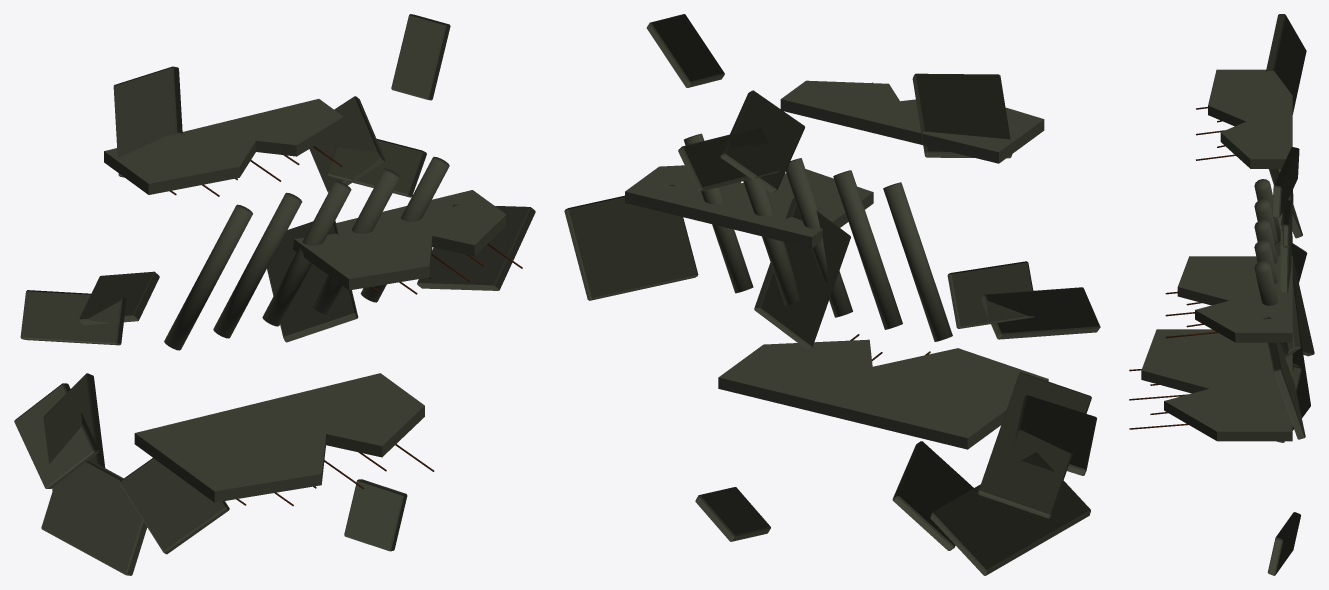
Rendered from building_ruins.obj.
3 renders of one model, left to right at view 1: azimuth 30°, elevation 25°; view 2: azimuth 150°, elevation 25°; view 3: azimuth 270°, elevation 25°, orthographic. The views are drawn at different scales.
Visible parts, largest first — view 1: fractured_wall_0.001, fractured_wall_2.001, fractured_wall_1.001, collapsed_slab_4.001, collapsed_slab_2.001, collapsed_slab_10.001, collapsed_slab_9.001, collapsed_slab_0.001, collapsed_slab_7.001, collapsed_slab_5.001, collapsed_slab_12.001, collapsed_slab_11.001 (+9 smaller); view 2: fractured_wall_0.001, collapsed_slab_0.001, fractured_wall_2.001, fractured_wall_1.001, collapsed_slab_4.001, collapsed_slab_1.001, collapsed_slab_10.001, collapsed_slab_7.001, collapsed_slab_3.001, collapsed_slab_9.001, collapsed_slab_2.001, collapsed_slab_6.001 (+9 smaller); view 3: fractured_wall_0.001, fractured_wall_1.001, fractured_wall_2.001, collapsed_slab_10.001, collapsed_slab_0.001, collapsed_slab_12.001, collapsed_slab_11.001, collapsed_slab_8.001, fallen_column_4.001, collapsed_slab_1.001, collapsed_slab_4.001, collapsed_slab_7.001 (+6 smaller).
Boxes of the visible parts, x1=… form: fractured_wall_0.001: x1=134, y1=373, x2=424, y2=502; fractured_wall_2.001: x1=104, y1=99, x2=343, y2=194; fractured_wall_1.001: x1=293, y1=190, x2=506, y2=290; collapsed_slab_4.001: x1=41, y1=459, x2=147, y2=575; collapsed_slab_2.001: x1=119, y1=458, x2=229, y2=554; collapsed_slab_10.001: x1=113, y1=66, x2=182, y2=177; collapsed_slab_9.001: x1=20, y1=290, x2=126, y2=345; collapsed_slab_0.001: x1=417, y1=204, x2=535, y2=290; collapsed_slab_7.001: x1=267, y1=220, x2=358, y2=342; collapsed_slab_5.001: x1=14, y1=383, x2=99, y2=488; collapsed_slab_12.001: x1=391, y1=14, x2=450, y2=100; collapsed_slab_11.001: x1=344, y1=479, x2=407, y2=551; fractured_wall_0.001: x1=718, y1=339, x2=1048, y2=449; collapsed_slab_0.001: x1=564, y1=185, x2=698, y2=300; fractured_wall_2.001: x1=780, y1=80, x2=1044, y2=163; fractured_wall_1.001: x1=625, y1=165, x2=873, y2=248; collapsed_slab_4.001: x1=930, y1=452, x2=1090, y2=575; collapsed_slab_1.001: x1=978, y1=372, x2=1091, y2=518; collapsed_slab_10.001: x1=912, y1=73, x2=1012, y2=158; collapsed_slab_7.001: x1=754, y1=198, x2=850, y2=349; collapsed_slab_3.001: x1=720, y1=90, x2=804, y2=193; collapsed_slab_9.001: x1=980, y1=287, x2=1100, y2=339; collapsed_slab_2.001: x1=892, y1=441, x2=973, y2=550; collapsed_slab_6.001: x1=947, y1=261, x2=1035, y2=328; fractured_wall_0.001: x1=1141, y1=329, x2=1292, y2=441; fractured_wall_1.001: x1=1177, y1=256, x2=1292, y2=342; fractured_wall_2.001: x1=1208, y1=69, x2=1292, y2=168; collapsed_slab_10.001: x1=1266, y1=14, x2=1306, y2=114; collapsed_slab_0.001: x1=1263, y1=317, x2=1305, y2=439; collapsed_slab_12.001: x1=1272, y1=147, x2=1299, y2=217; collapsed_slab_11.001: x1=1267, y1=512, x2=1300, y2=575; collapsed_slab_8.001: x1=1279, y1=200, x2=1292, y2=292; fallen_column_4.001: x1=1254, y1=261, x2=1288, y2=355; collapsed_slab_1.001: x1=1291, y1=252, x2=1314, y2=356; collapsed_slab_4.001: x1=1292, y1=334, x2=1310, y2=430; collapsed_slab_7.001: x1=1274, y1=240, x2=1301, y2=358.
Bounding box in the file's own units: 16.96 × 16.43 × 6.13.
